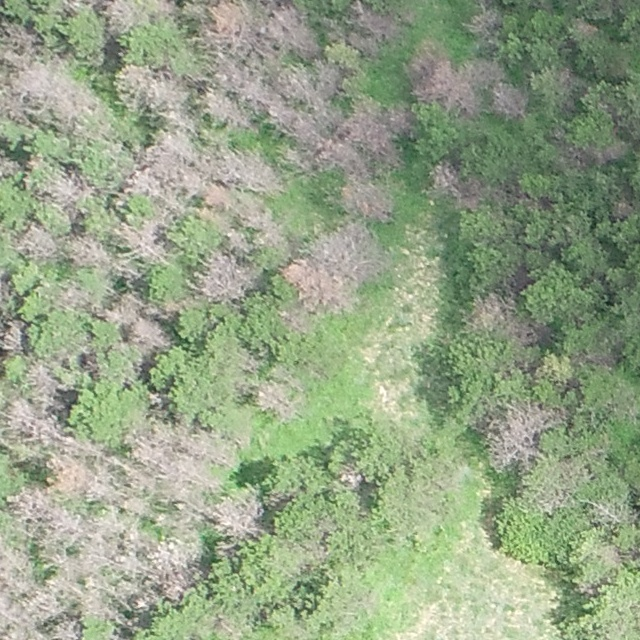unhealthy: (278, 220, 382, 308), (126, 421, 238, 499), (10, 57, 102, 129), (128, 131, 212, 205), (482, 402, 562, 466), (8, 483, 82, 544), (410, 48, 476, 116), (206, 63, 273, 124), (48, 448, 119, 504), (114, 64, 190, 116), (82, 509, 142, 569), (0, 581, 64, 637), (203, 4, 269, 56), (214, 146, 285, 193), (197, 250, 258, 304), (338, 101, 395, 158), (148, 538, 199, 601), (267, 3, 317, 60), (5, 398, 64, 446), (430, 159, 484, 209), (275, 102, 320, 161), (212, 492, 263, 540), (117, 216, 167, 263), (35, 168, 92, 208), (341, 180, 394, 222), (81, 575, 126, 623), (348, 1, 399, 42), (202, 89, 252, 127), (241, 199, 283, 244), (323, 135, 364, 177), (254, 380, 297, 420), (15, 220, 59, 259), (489, 80, 530, 119), (67, 234, 109, 269), (27, 361, 61, 403), (127, 319, 169, 352), (1, 19, 38, 56), (469, 293, 505, 331), (466, 6, 502, 43), (106, 293, 145, 326), (99, 0, 140, 30), (505, 314, 543, 346), (464, 57, 504, 87), (311, 59, 343, 96), (279, 60, 311, 97), (55, 282, 92, 312), (384, 105, 415, 139), (0, 545, 31, 575), (578, 348, 617, 370), (0, 318, 24, 353), (591, 497, 622, 524), (37, 546, 70, 571), (223, 226, 251, 253), (215, 613, 244, 638), (50, 616, 81, 639), (336, 465, 364, 490), (595, 141, 628, 162), (553, 66, 578, 93), (569, 17, 598, 39), (600, 543, 624, 567), (0, 267, 14, 308), (609, 199, 634, 221), (0, 151, 18, 180)
